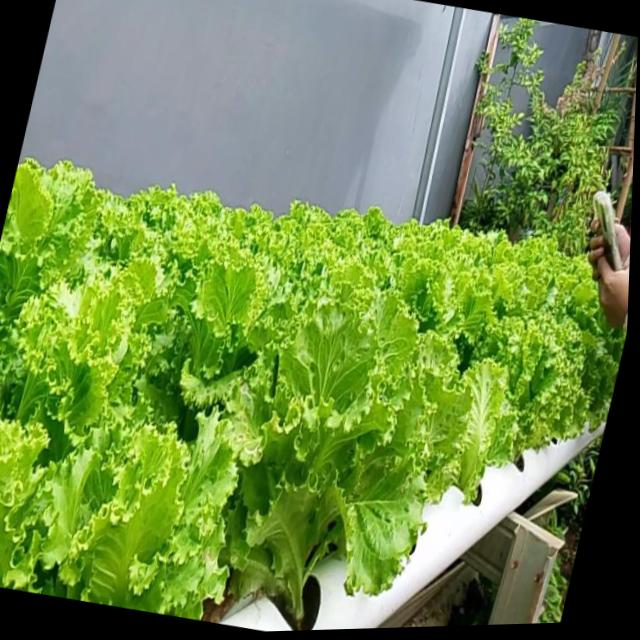Mature: (0, 161, 626, 630), (216, 318, 419, 616), (452, 282, 613, 490)
